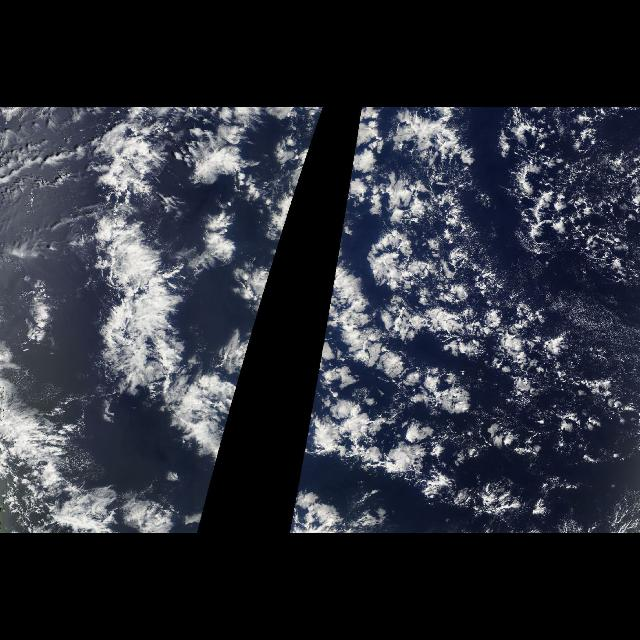Fish: (72, 124, 230, 434)
Flower: (296, 121, 612, 493), (86, 121, 320, 493)
Gravel: (355, 108, 639, 492)
Sugar: (558, 290, 640, 386)
